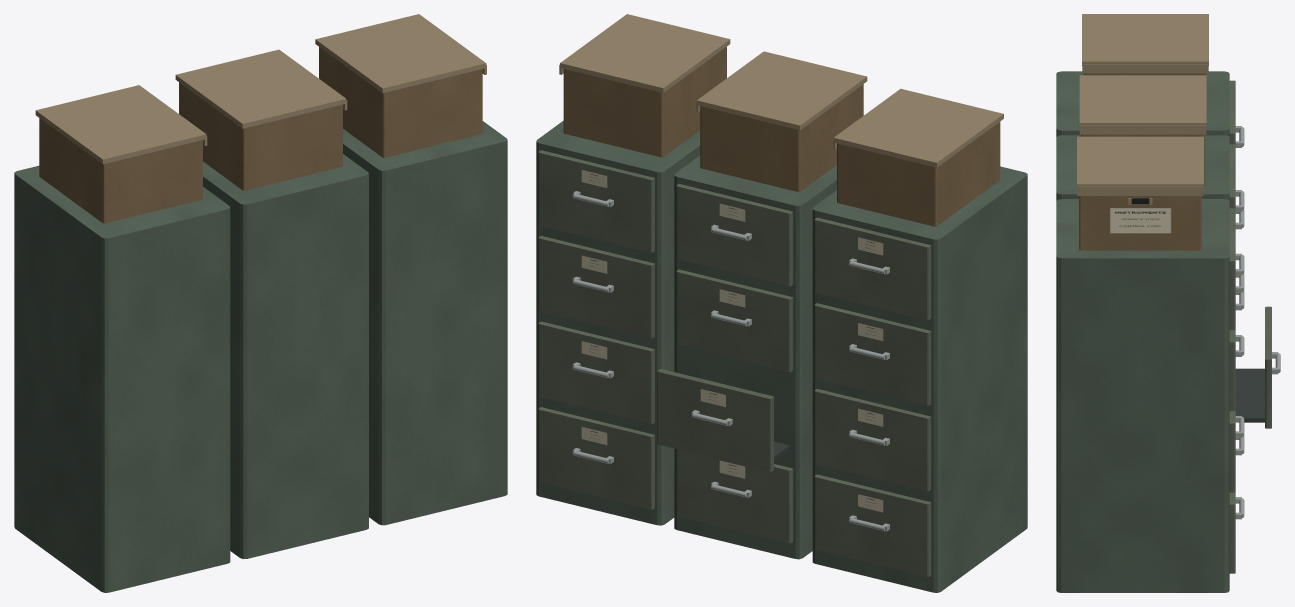
The model's file is SM_ArchiveProps_FilingCabinets_LOD1.fbx.
3 views of the same model, side by side, from view 1: azimuth 30°, elevation 25°; view 2: azimuth 150°, elevation 25°; view 3: azimuth 270°, elevation 25° (orthographic). The views are drawn at different scales.
Parts seen in each view (by area): view 1: SM_ArchiveProps_FilingCabinets_LOD1; view 2: SM_ArchiveProps_FilingCabinets_LOD1; view 3: SM_ArchiveProps_FilingCabinets_LOD1.
Boxes of the visible parts, x1,y1,x2,y2 form: SM_ArchiveProps_FilingCabinets_LOD1: (14, 14, 507, 592); SM_ArchiveProps_FilingCabinets_LOD1: (536, 14, 1027, 592); SM_ArchiveProps_FilingCabinets_LOD1: (1056, 14, 1280, 592).
Size of the model in its own units: 1.58 by 0.802 by 1.59.
